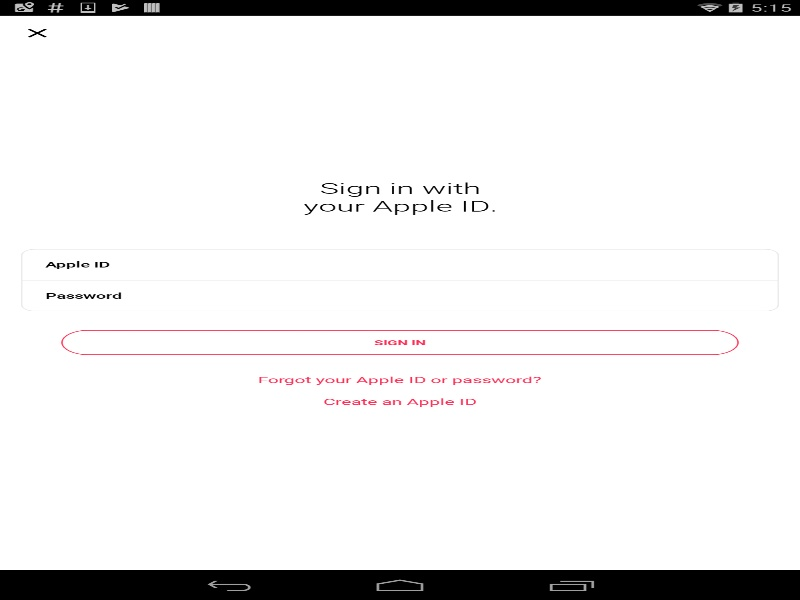Button: (61, 330, 738, 355), (258, 373, 541, 385), (323, 395, 476, 407)
Input: (143, 248, 768, 280), (143, 280, 768, 311)
